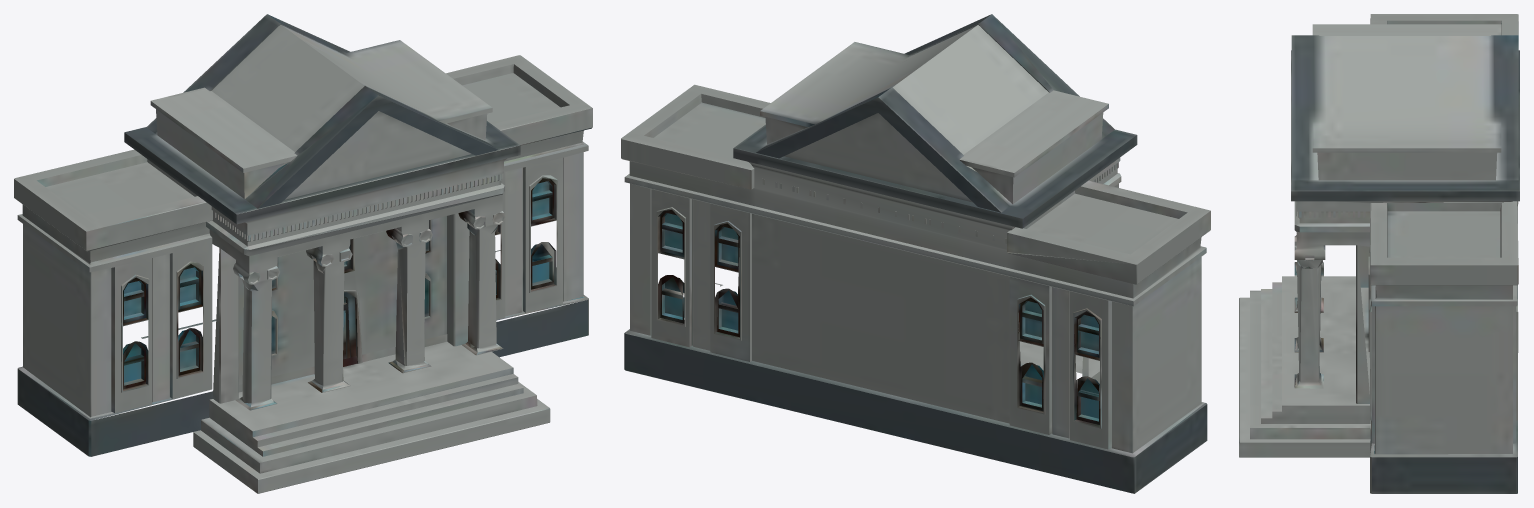
The model's file is kantor_pemerintah_1_lod2.glb.
The picture shows the model from 3 angles, left to right: view 1: azimuth 30°, elevation 25°; view 2: azimuth 150°, elevation 25°; view 3: azimuth 270°, elevation 25°; orthographic projection.
Parts seen in each view (by area): view 1: tripo_node_67bc15fa; view 2: tripo_node_67bc15fa; view 3: tripo_node_67bc15fa.
Part boxes in pixels (box(x1,y1,x2,y2)): tripo_node_67bc15fa: box(14, 14, 592, 493); tripo_node_67bc15fa: box(621, 14, 1210, 493); tripo_node_67bc15fa: box(1239, 14, 1519, 493).
Size of the model in its own units: 1 by 0.6489 by 0.4717.
1 material, 1 textured.
